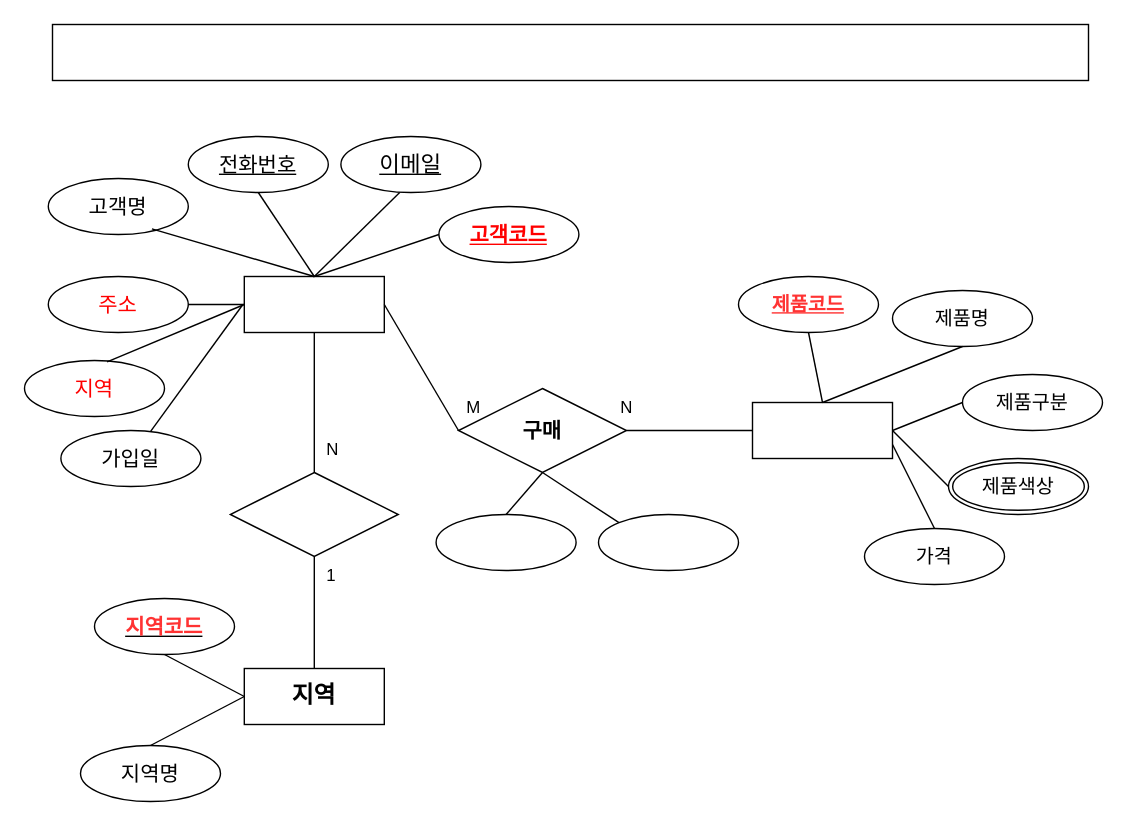
Some shapes in this 1127 by 826 pixel diagram are drawn without their labels. The shapes that lost their labels are listed below. From the top down, each one's centre as x and y in pixels, then its label:
the point at 569,51: 2. Conceptual Data Modeling(ERD)
the point at 313,303: 고객
the point at 821,429: 제품
the point at 313,513: 관리
the point at 505,541: 구매수량
the point at 667,541: 구매일자
